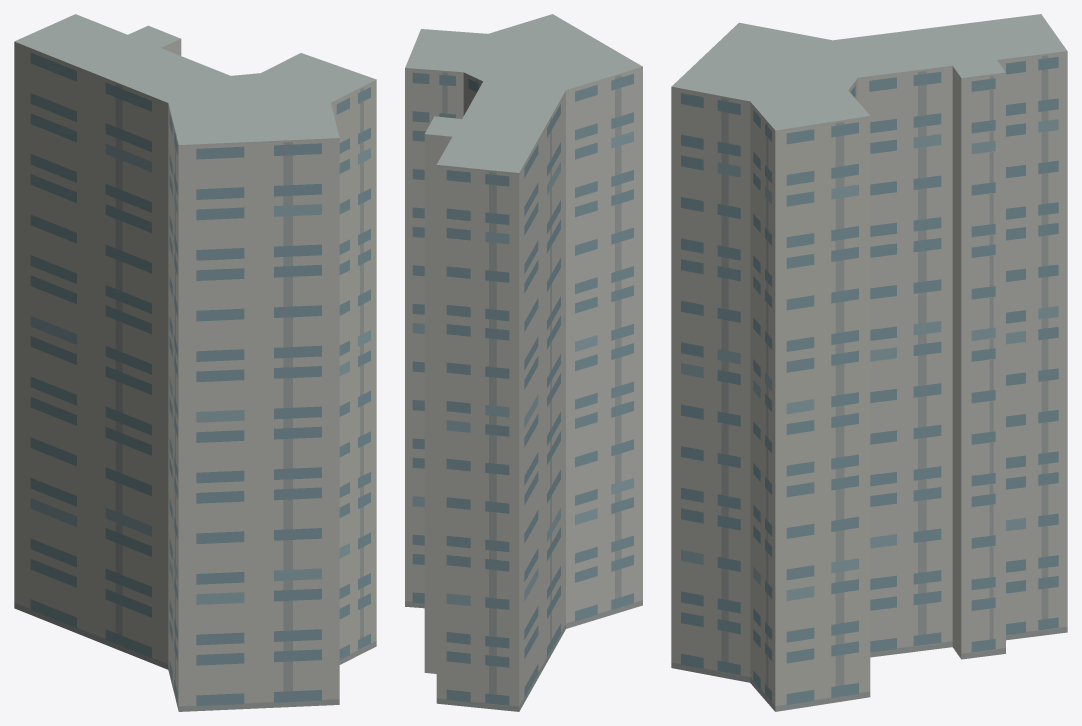
Rendered from residential-77014c6b-fefe-422b-9ac3-a90ee8a7157d.glb.
3 renders of one model, left to right at view 1: azimuth 30°, elevation 25°; view 2: azimuth 150°, elevation 25°; view 3: azimuth 270°, elevation 25°, orthographic. The views are drawn at different scales.
Visible parts, largest first — view 1: residential-77014c6b-fefe-422b-9ac3-a90ee8a7157d.tmp; view 2: residential-77014c6b-fefe-422b-9ac3-a90ee8a7157d.tmp; view 3: residential-77014c6b-fefe-422b-9ac3-a90ee8a7157d.tmp.
Boxes of the visible parts, <box> form: residential-77014c6b-fefe-422b-9ac3-a90ee8a7157d.tmp: <box>14,14,376,711</box>; residential-77014c6b-fefe-422b-9ac3-a90ee8a7157d.tmp: <box>405,14,642,711</box>; residential-77014c6b-fefe-422b-9ac3-a90ee8a7157d.tmp: <box>671,14,1067,711</box>.
Bounding box in the file's own units: 33.12 × 77 × 47.56.
